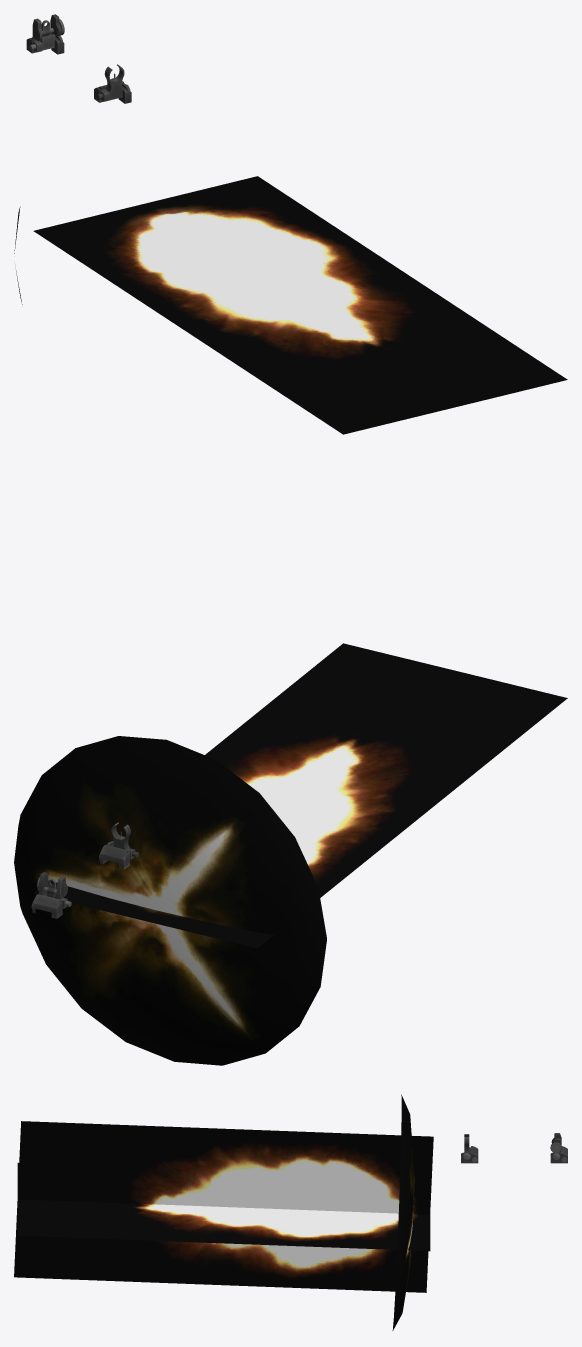
The picture shows the model from 3 angles, top to bottom: view 1: azimuth 30°, elevation 25°; view 2: azimuth 150°, elevation 25°; view 3: azimuth 270°, elevation 25°; orthographic projection. The views are drawn at different scales.
Visible parts, largest first — view 1: MuzzleFlash, P90_Scope; view 2: MuzzleFlash, P90_Scope; view 3: MuzzleFlash, P90_Scope.
Part boxes in pixels (<box>): MuzzleFlash: <box>14,176,567,434</box>; P90_Scope: <box>26,14,131,103</box>; MuzzleFlash: <box>14,643,567,1065</box>; P90_Scope: <box>31,822,138,918</box>; MuzzleFlash: <box>14,1094,433,1330</box>; P90_Scope: <box>461,1133,567,1163</box>.
Size of the model in its own units: 0.2492 by 0.249 by 0.574.
2 materials, 2 textured.
